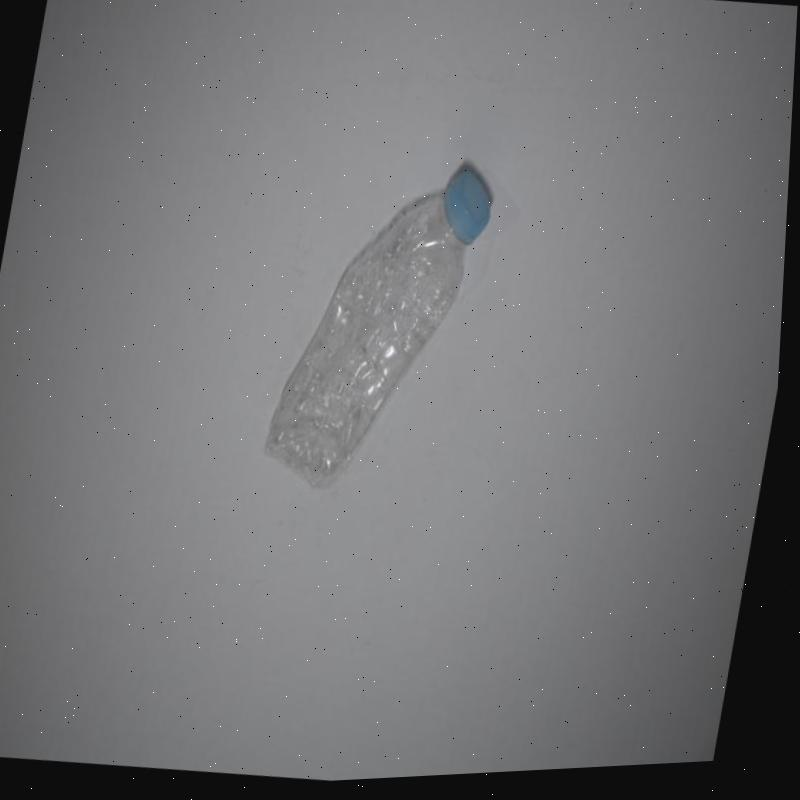botella: (262, 152, 500, 512)
